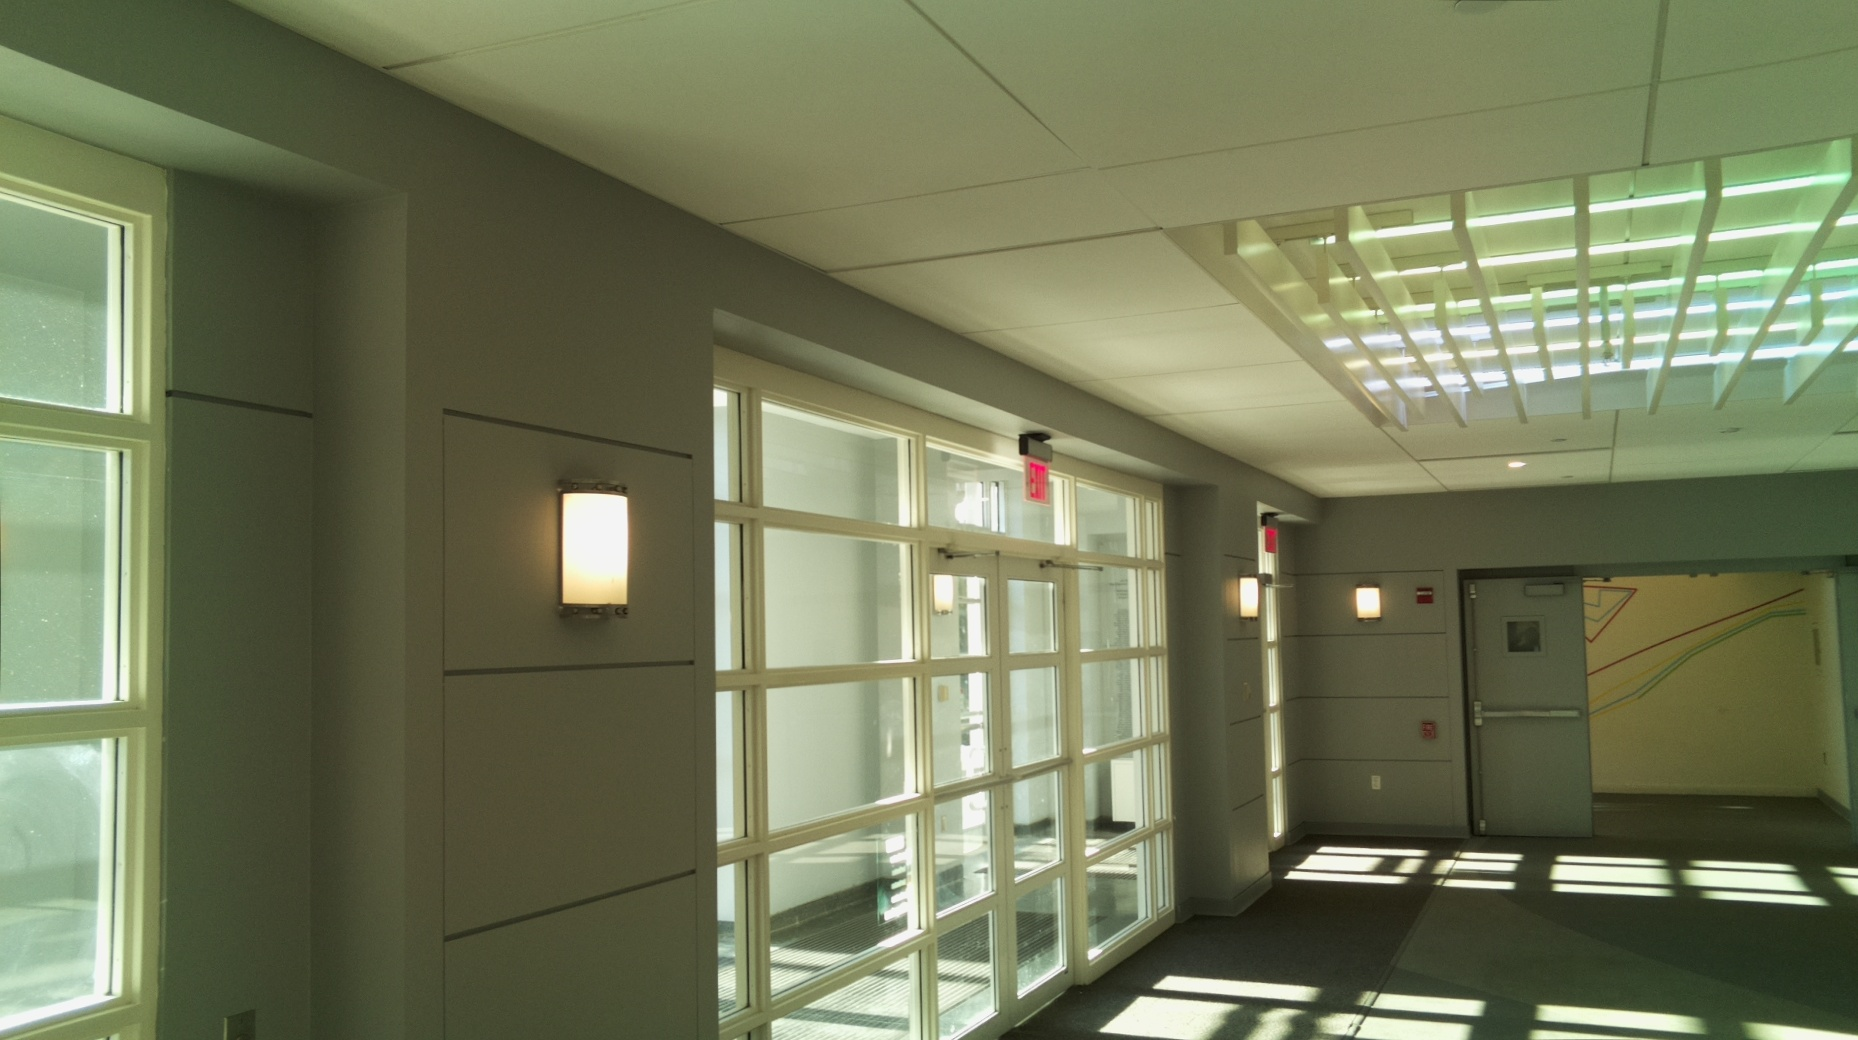exit sign: (1022, 454, 1054, 509), (1262, 522, 1280, 558)
